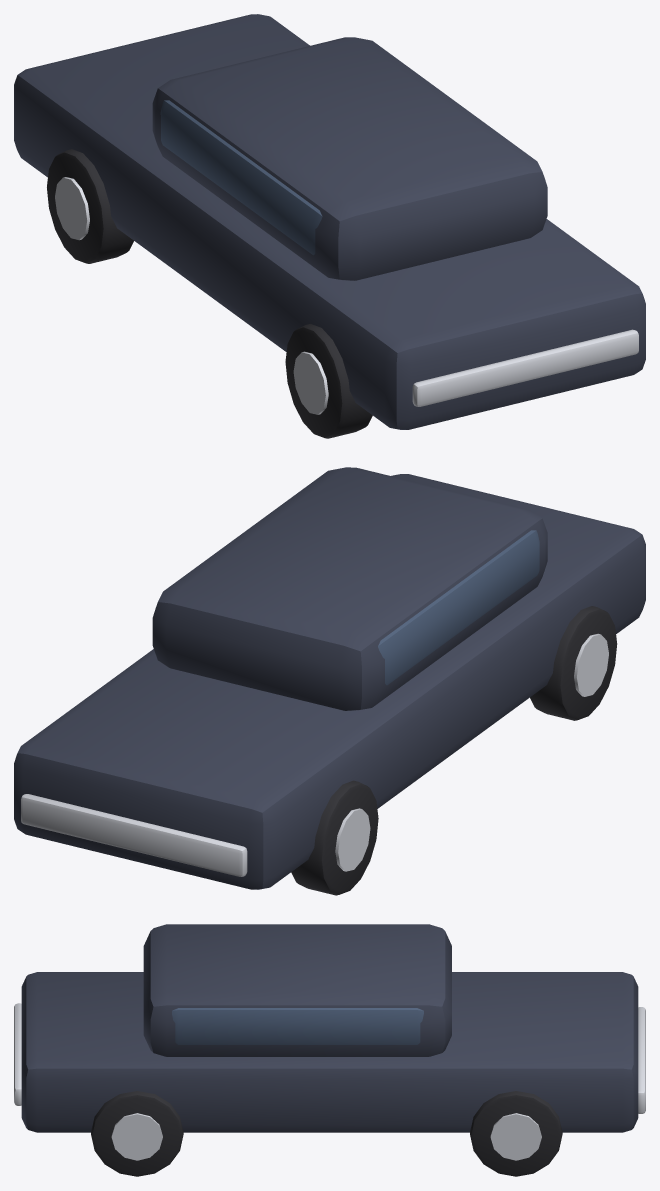
Rendered from carro_sedan.glb.
3 views of the same model, one above another, from view 1: azimuth 30°, elevation 25°; view 2: azimuth 150°, elevation 25°; view 3: azimuth 270°, elevation 25° (orthographic). The views are drawn at different scales.
Visible parts, largest first — view 1: Cube; view 2: Cube; view 3: Cube.
Boxes of the visible parts, x1,y1,x2,y2 form: Cube: (14, 14, 645, 438); Cube: (14, 467, 645, 895); Cube: (14, 924, 645, 1176).
Size of the model in its own units: 2.02 by 1.42 by 4.92.
